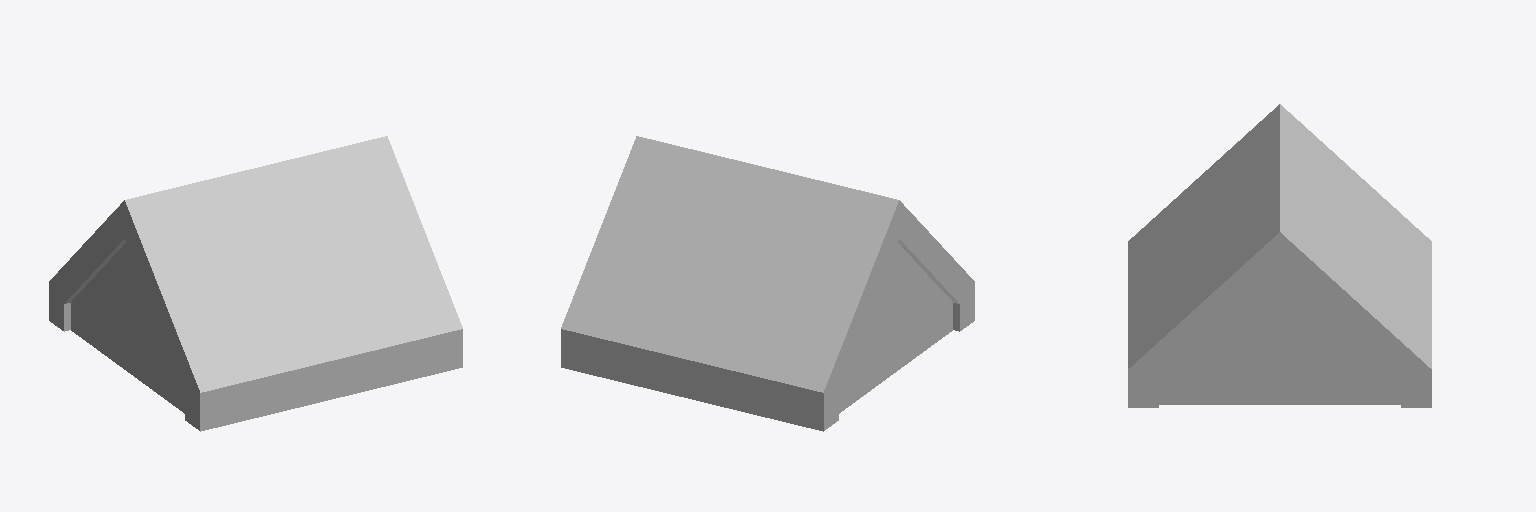
The model's file is roof-high-gable-top.obj.
3 renders of one model, left to right at view 1: azimuth 30°, elevation 25°; view 2: azimuth 150°, elevation 25°; view 3: azimuth 270°, elevation 25°, orthographic.
Parts seen in each view (by area): view 1: roof-high-gable-top; view 2: roof-high-gable-top; view 3: roof-high-gable-top.
Part boxes in pixels (x1,y1,x2,y2): roof-high-gable-top: (49,136,462,431); roof-high-gable-top: (561,136,974,431); roof-high-gable-top: (1128,104,1431,407).
Bounding box in the file's own units: 1 × 0.6407 × 1.